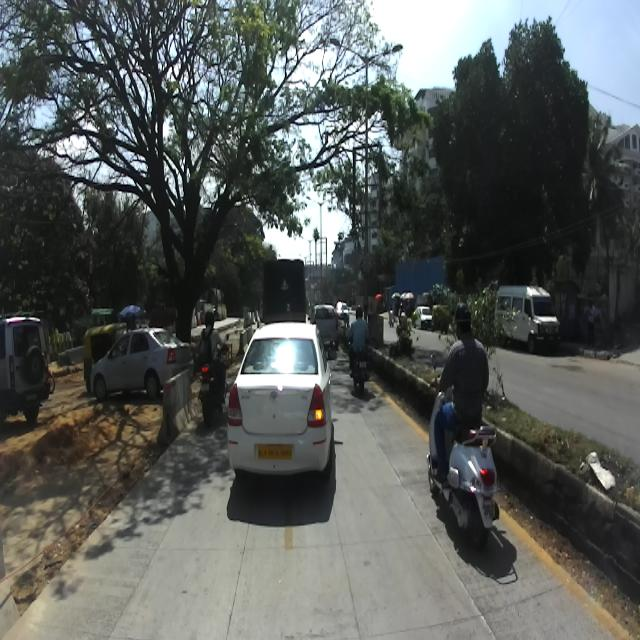car ahead at: (232, 322, 335, 474)
motorcycle ahead at: (424, 439, 503, 544)
